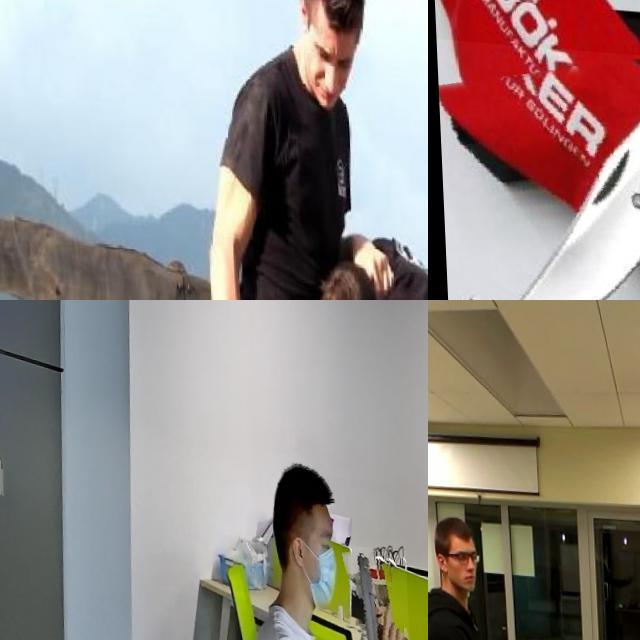-: (433, 39, 640, 300)
gun-knife-thesis - v11 Yolov5 augmented: (344, 536, 406, 640)
